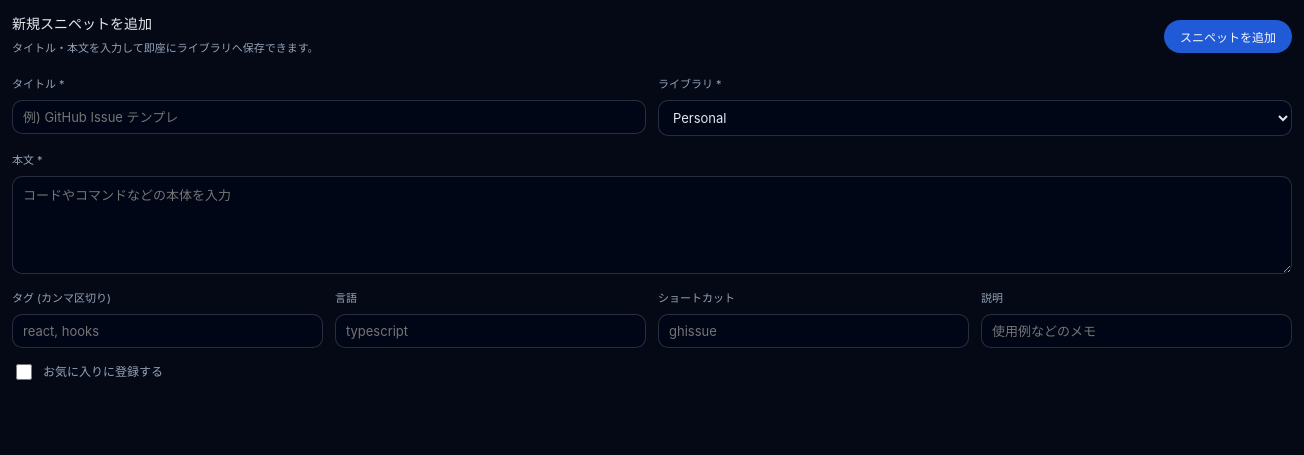
Test: SnippetForm › shows an error when required fields are missing
Click the button "スニペットを追加": [1228, 36] box [1164,20,1292,52]
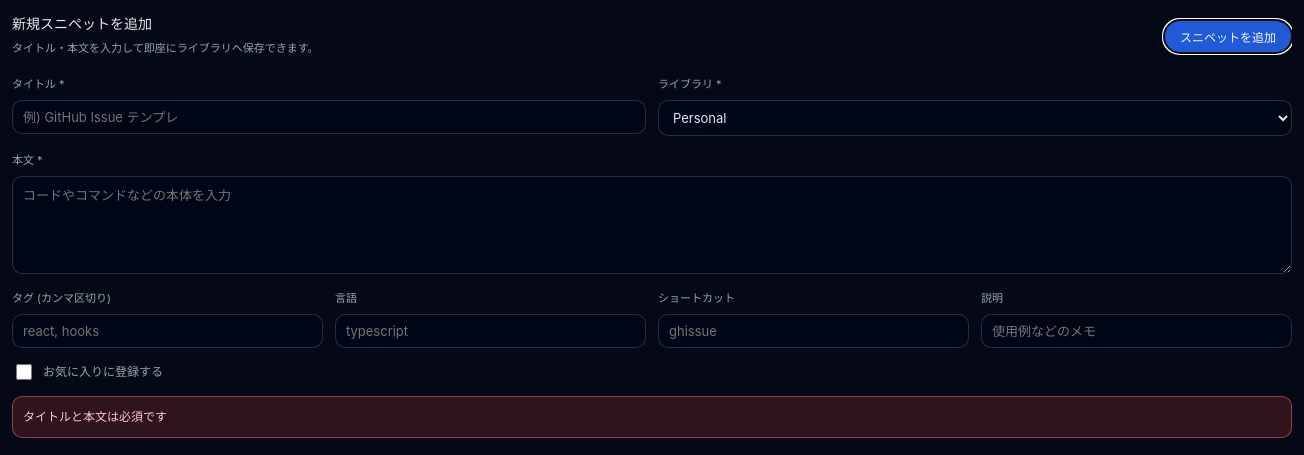
Now the message reads "タイトルと本文は必須です", box [23,409,167,424]
